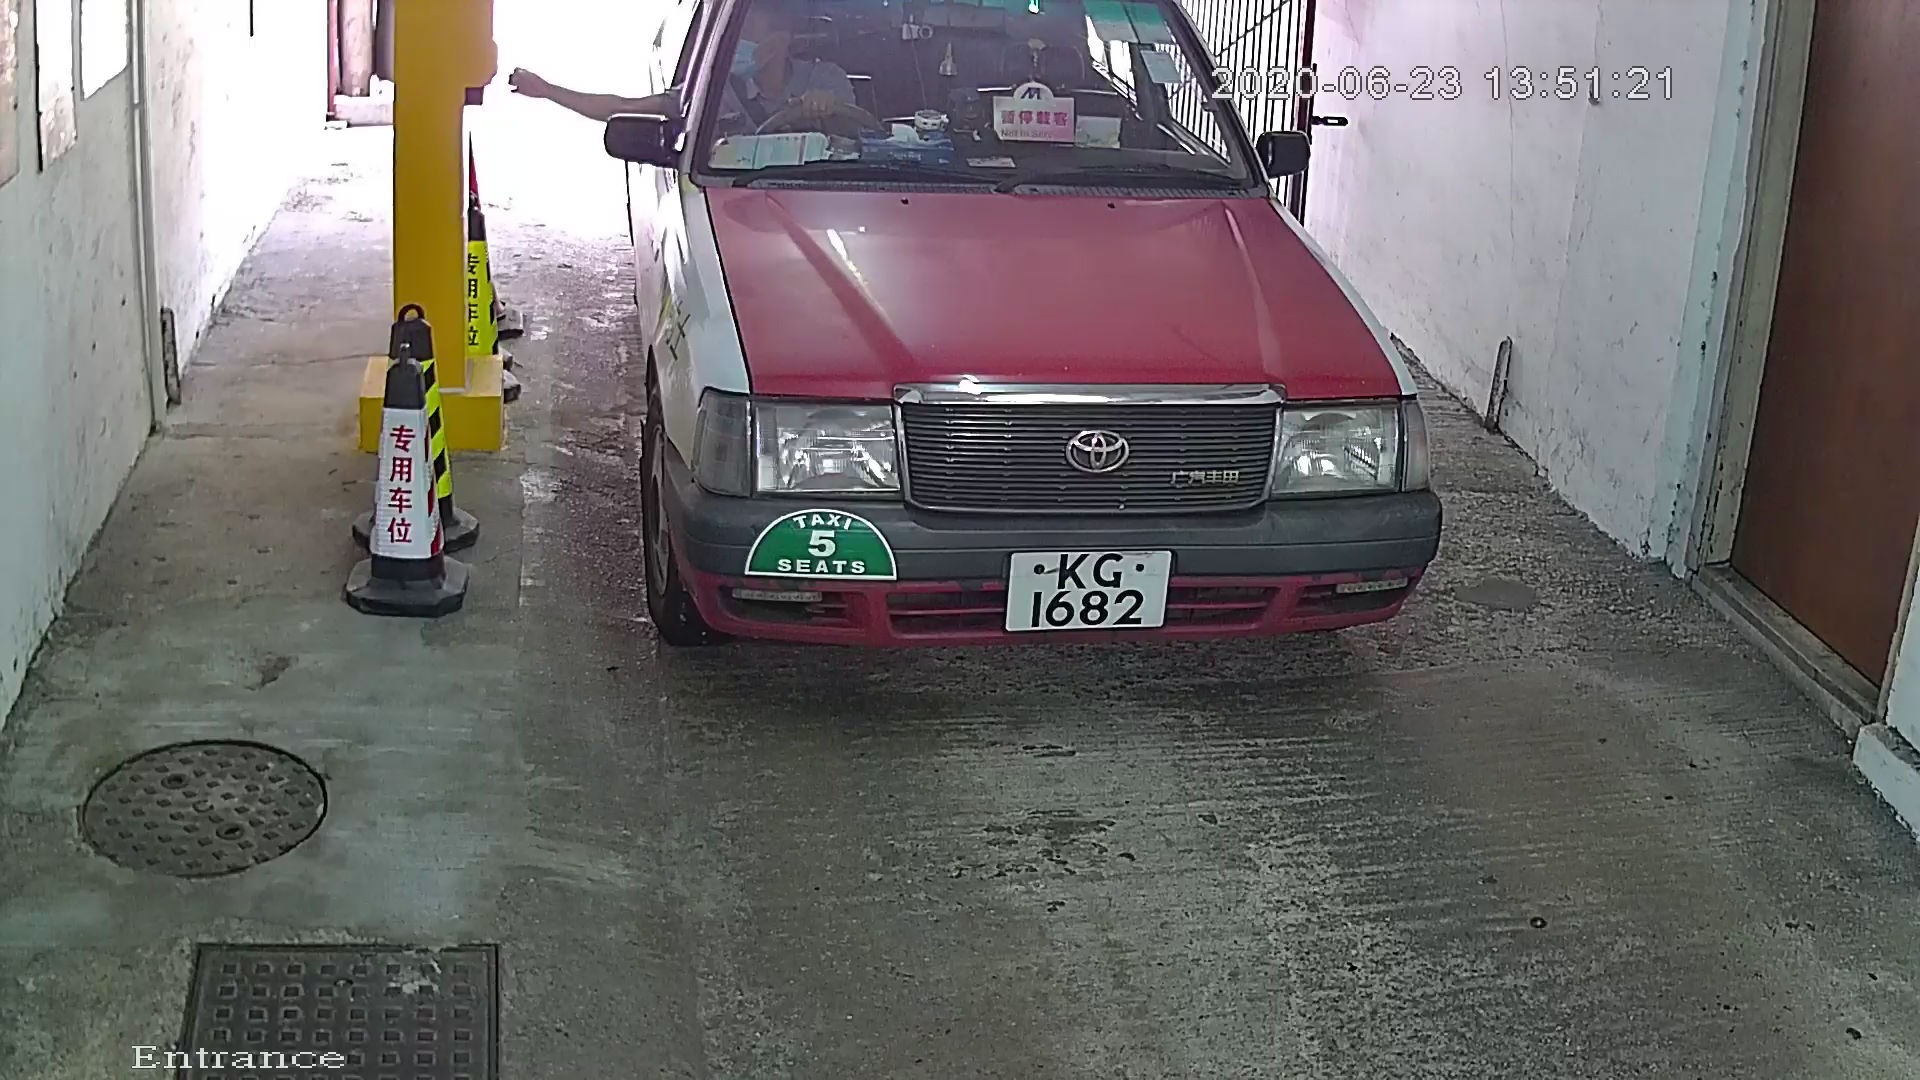taxi: (585, 3, 1499, 705)
taxi_mark: (733, 479, 913, 607)
